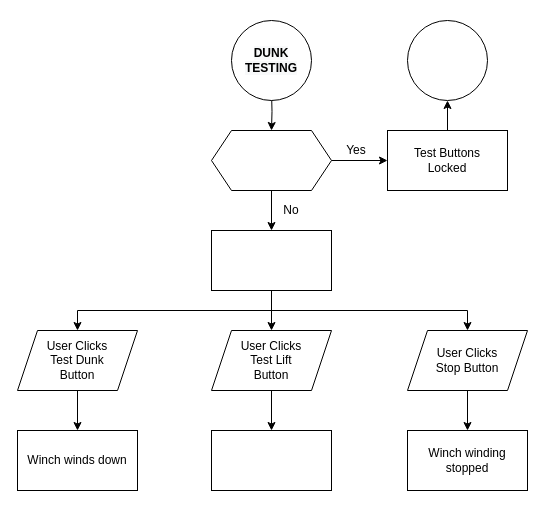
Image size: 545x508. Some labels were removed from this diagram. Here are the shapes that lost their labels. From the top down, the centre of each, then its label:
the point at 447,60: MAIN FLOW
the point at 271,160: Is Scheduled Dunk Running?
the point at 271,260: Test Buttons Unlocked
the point at 271,460: Winch winds up
